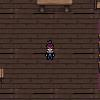Obstacle: (35, 0, 73, 14)
Victim: (43, 39, 58, 60)
